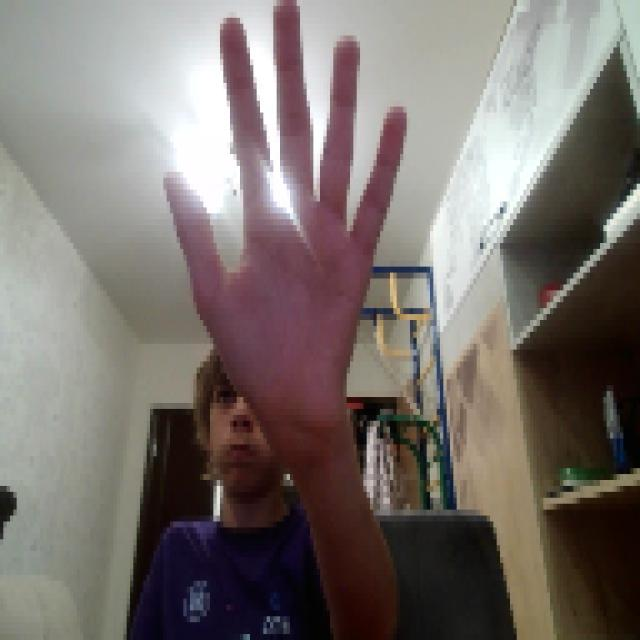hand: (160, 0, 406, 444)
